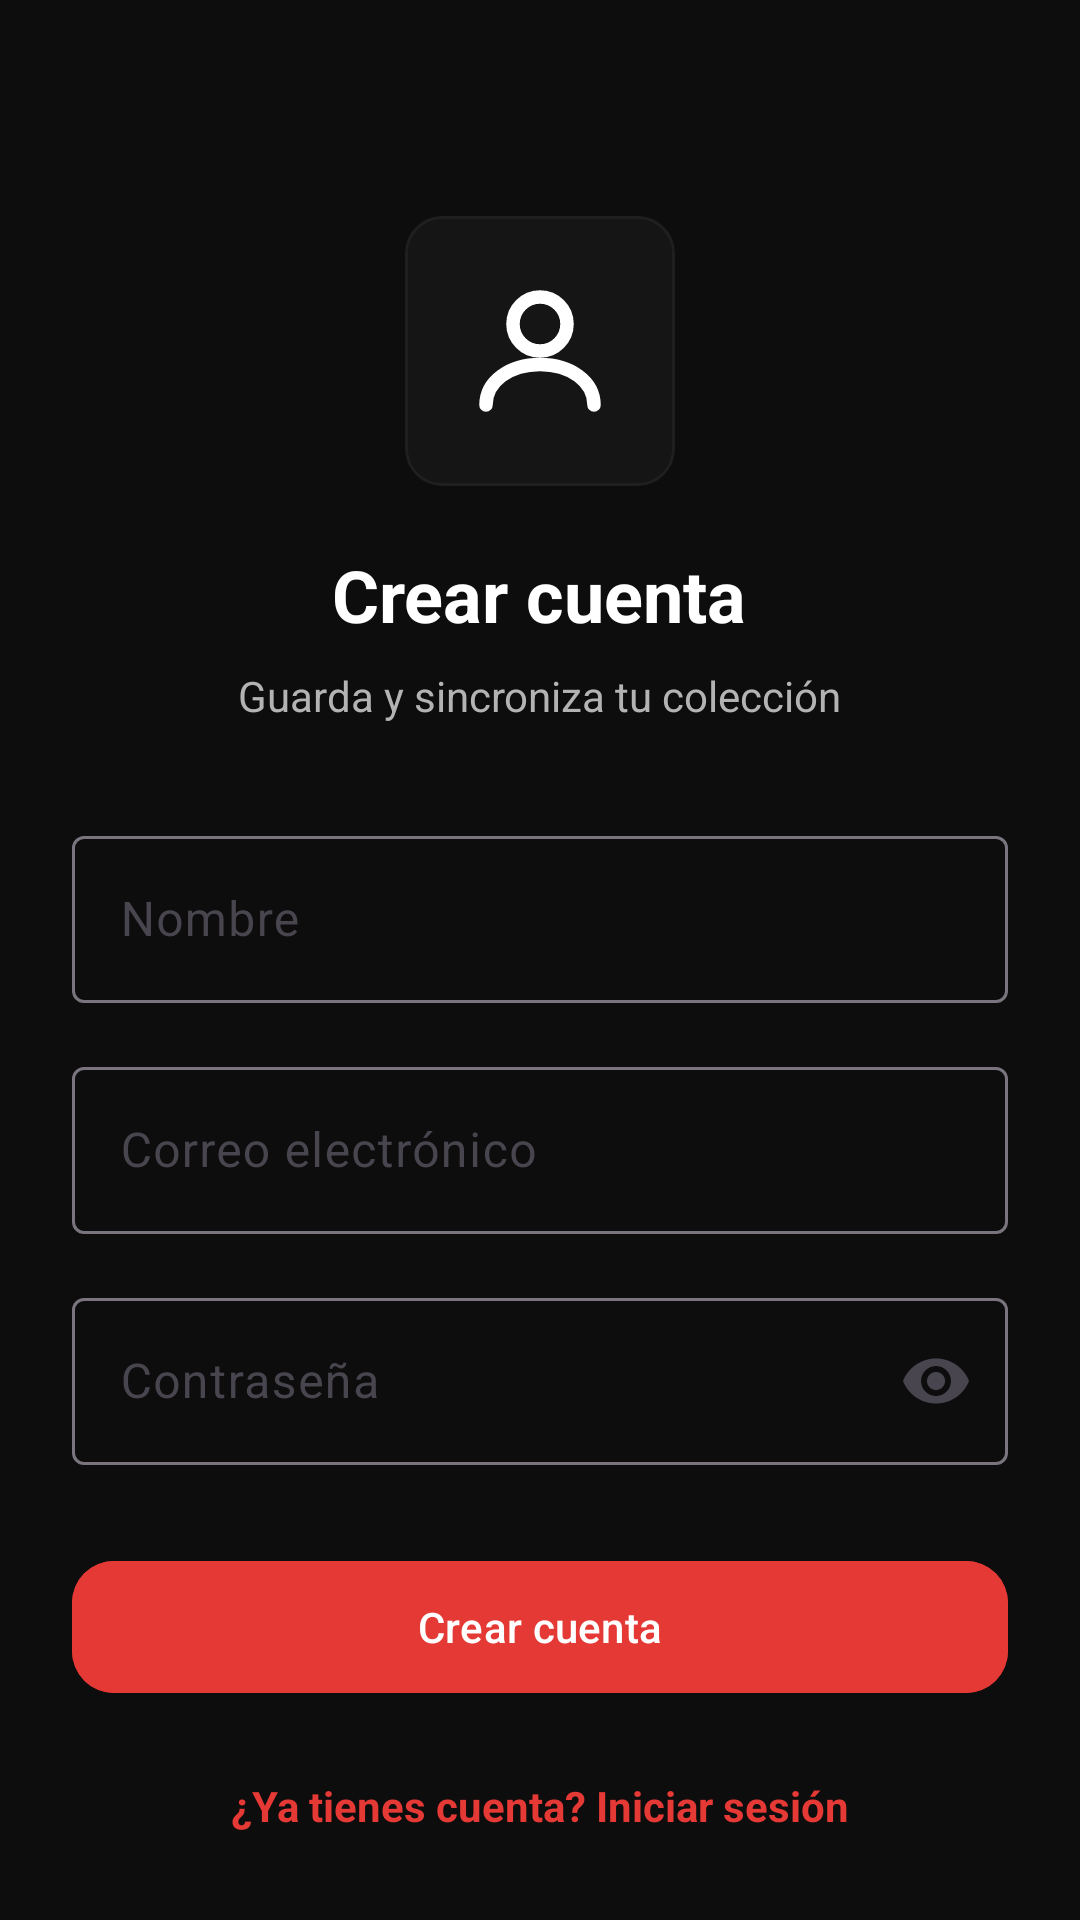

Point at icon controls on the screen. Image size 1080w x 1920h, points as [x,y].
profile: [540,351]
